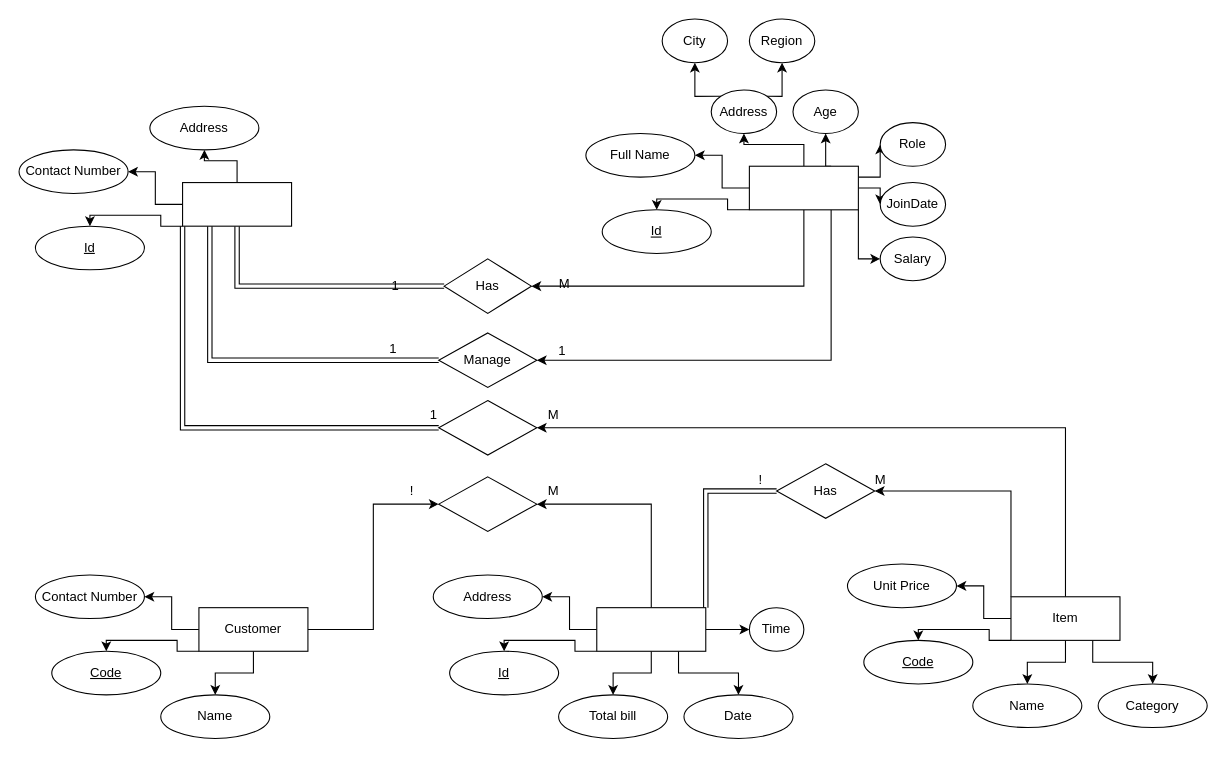
Image size: 1226x758. Some labels were removed from this diagram. The centre of each missing label's shape, as x and y in pixels:
"Branch" belongs at point 236,203.
"Order" belongs at point 651,629.
"Place" belongs at point 487,503.
"Share" belongs at point 487,427.
"Staff Member" belongs at point 803,187.
